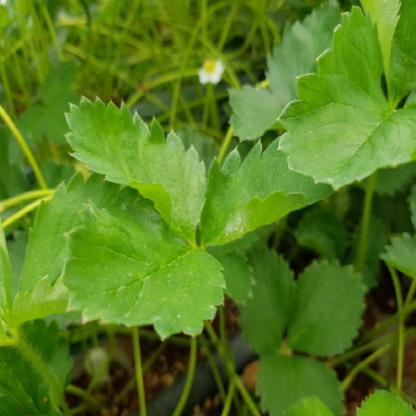Strawberry_Powdery_Mildew_Leaf: (198, 135, 337, 250)
